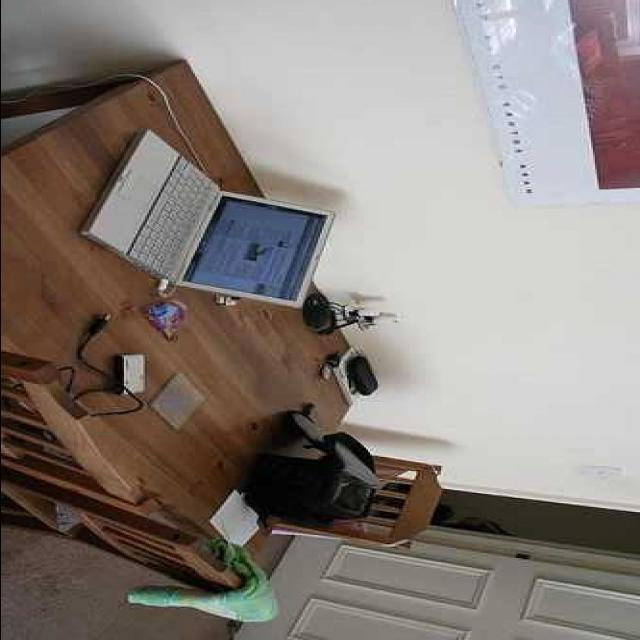laptop: (81, 130, 329, 308)
